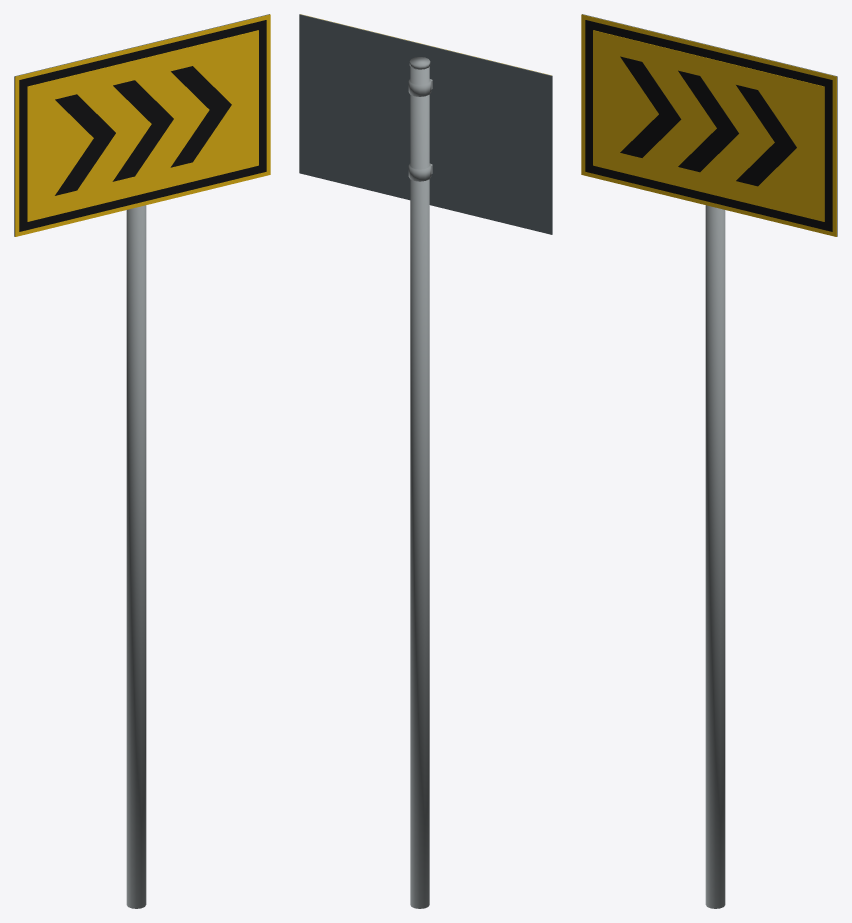
Rendered from PlacaSetasPoste.fbx.
3 views of the same model, side by side, from view 1: azimuth 30°, elevation 25°; view 2: azimuth 150°, elevation 25°; view 3: azimuth 330°, elevation 25° (orthographic).
Parts seen in each view (by area): view 1: PlacaSetasPoste; view 2: PlacaSetasPoste; view 3: PlacaSetasPoste.
Boxes of the visible parts, bbox=[...] form: PlacaSetasPoste: bbox=[14, 14, 270, 908]; PlacaSetasPoste: bbox=[299, 14, 552, 908]; PlacaSetasPoste: bbox=[581, 14, 837, 908].
Bounding box in the file's own units: 0.75 × 2.42 × 0.065.
